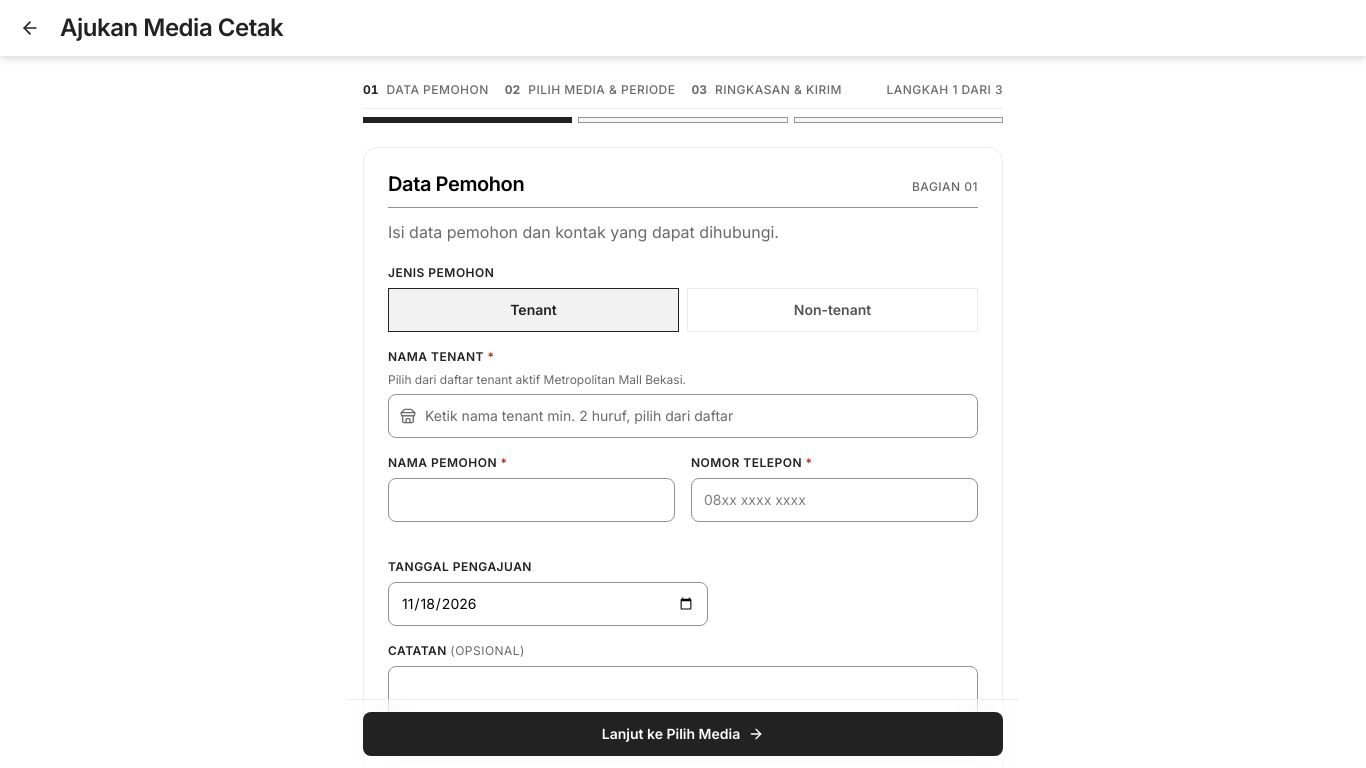
Test: PromoCetakWizard — langkah 1 (pemohon) › field wajib kosong → pesan galat, tidak lanjut langkah
Expected: the button "Tenant" is shown, [388, 288, 679, 332]
Click the button "Lanjut ke Pilih Media": coordinates (683, 734) [363, 712, 1003, 756]
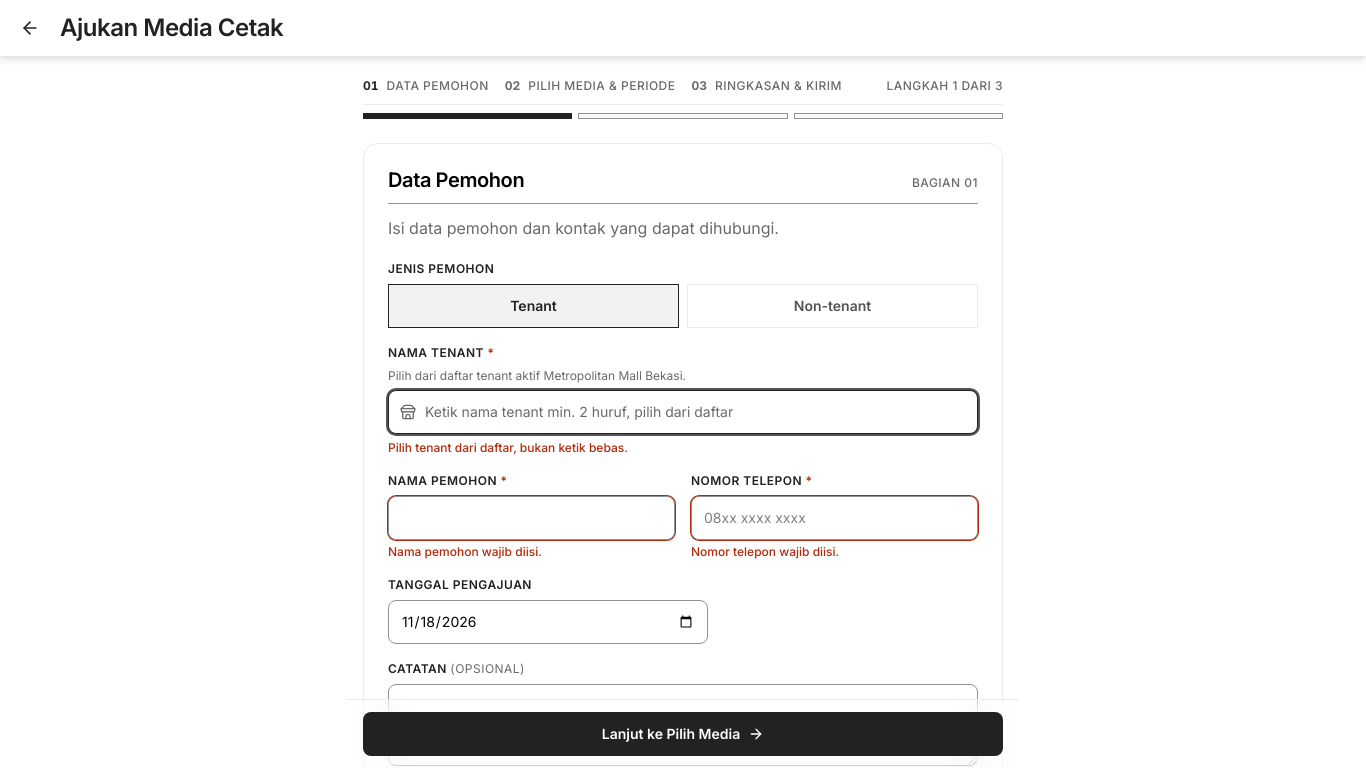
Expected: the text "Nama pemohon wajib diisi." is shown, [388, 544, 542, 559]
